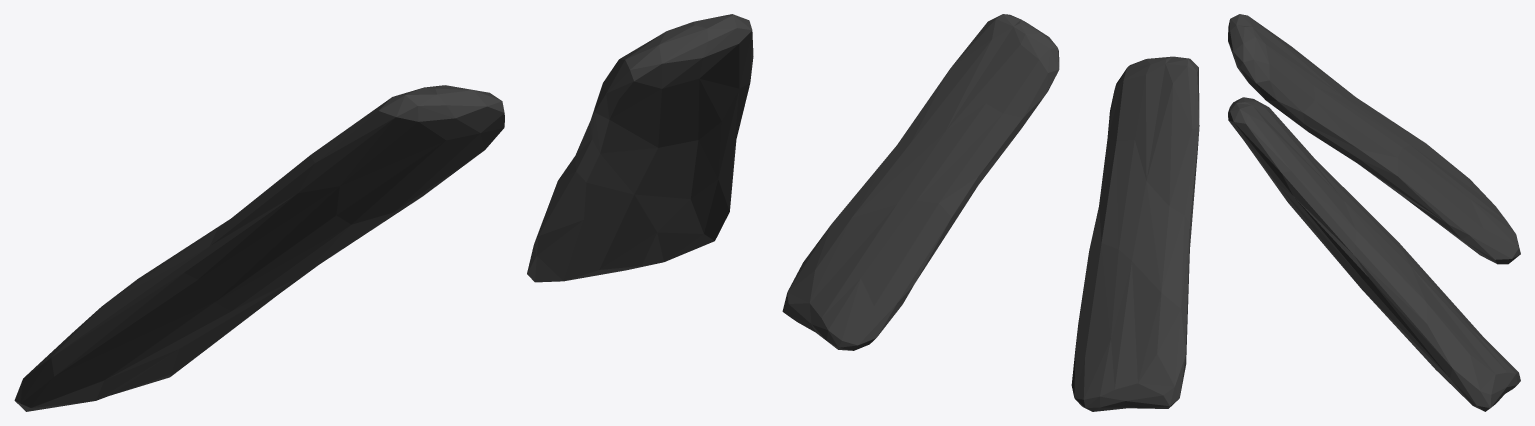
The model's file is m_rectus_capitis_dorsalis_minor.glb.
The picture shows the model from 3 angles, left to right: view 1: azimuth 30°, elevation 25°; view 2: azimuth 150°, elevation 25°; view 3: azimuth 270°, elevation 25°; orthographic projection. The views are drawn at different scales.
Parts seen in each view (by area): view 1: m_rectus_capitis_dorsalis_minor; view 2: m_rectus_capitis_dorsalis_minor; view 3: m_rectus_capitis_dorsalis_minor.
Boxes of the visible parts, left/top/right/bottom form: m_rectus_capitis_dorsalis_minor: left=14, top=14, right=753, bottom=411; m_rectus_capitis_dorsalis_minor: left=782, top=14, right=1199, bottom=411; m_rectus_capitis_dorsalis_minor: left=1228, top=14, right=1520, bottom=411.
Bounding box in the file's own units: 0.00111 × 0.000669 × 0.000679.
1 material, 1 textured.
